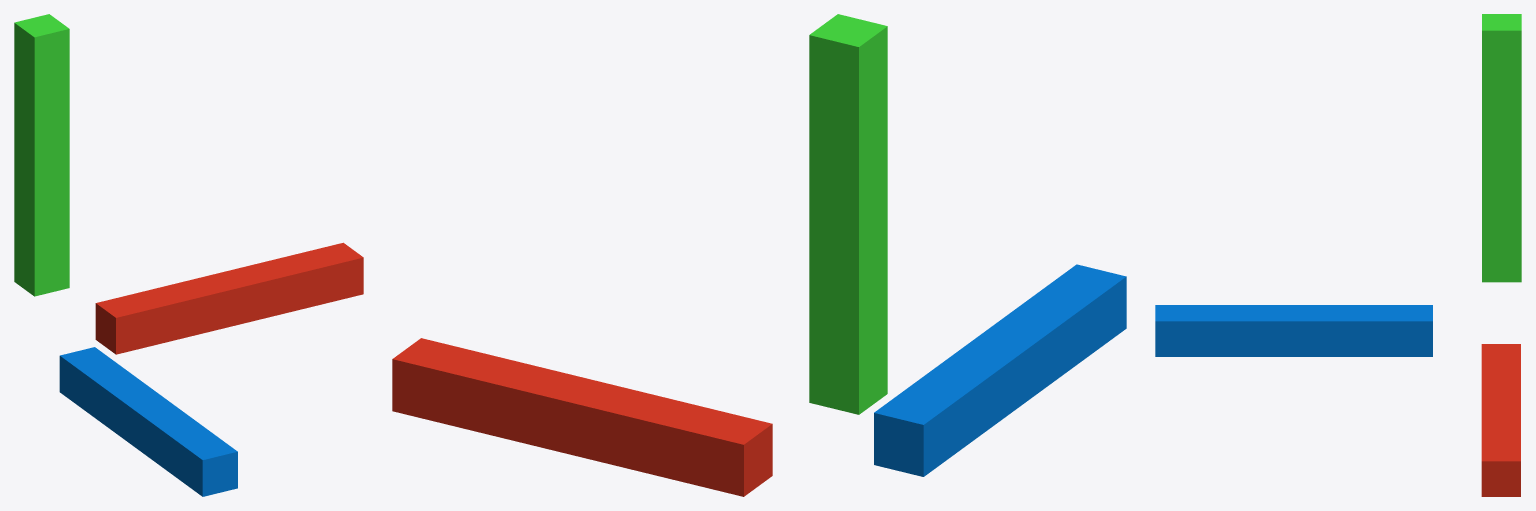
Rendered from axis.glb.
The picture shows the model from 3 angles, left to right: view 1: azimuth 30°, elevation 25°; view 2: azimuth 150°, elevation 25°; view 3: azimuth 270°, elevation 25°; orthographic projection. The views are drawn at different scales.
Visible parts, largest first — view 1: Text.001; view 2: Text.001; view 3: Text.001.
Part boxes in pixels (left/top/right/bottom): Text.001: left=14, top=14, right=363, bottom=496; Text.001: left=392, top=14, right=1126, bottom=496; Text.001: left=1155, top=14, right=1521, bottom=496.
Bounding box in the file's own units: 3.11 × 3.04 × 3.09.
